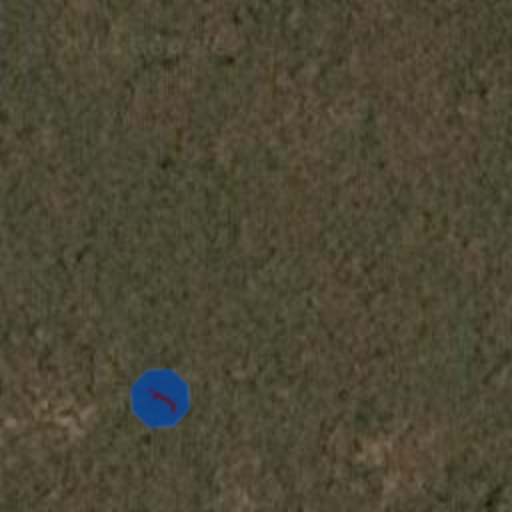octagon: (118, 356, 202, 440)
